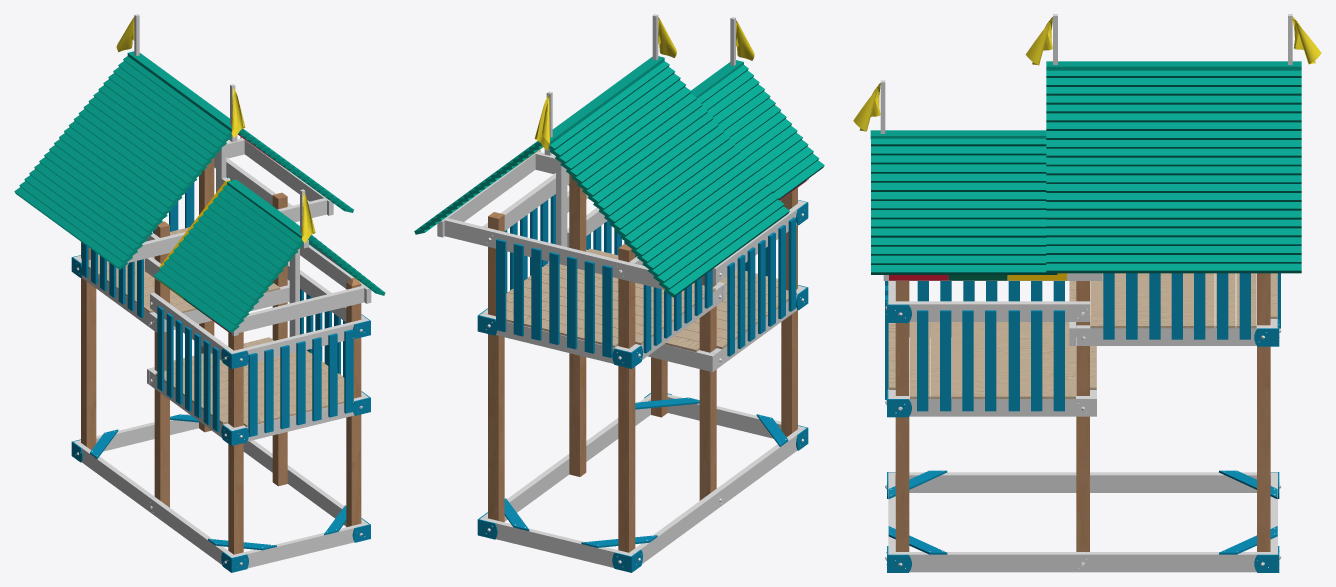
Rendered from P-DST.9e12bee6.glb.
3 views of the same model, side by side, from view 1: azimuth 30°, elevation 25°; view 2: azimuth 150°, elevation 25°; view 3: azimuth 270°, elevation 25° (orthographic). The views are drawn at different scales.
Parts seen in each view (by area): view 1: roof_poly_back,#004983,#01664b,#ffcb05,#93293b, Cube603, Cube603_1.001, roof_poly_front,#004983,#01664b,#ffcb05,#93293b, Cube603_1, Deluxe_corners001,_colorize_, Cube110, Deluxe_Joint001,_colorize_, Cube120, FenceDeluxe037,_colorize_, FenceDeluxe038,_colorize_, FenceDeluxe040,_colorize_ (+12 smaller); view 2: roof_poly_back,#004983,#01664b,#ffcb05,#93293b, Cube603, Cube603_1.001, roof_poly_front,#004983,#01664b,#ffcb05,#93293b, Cube603_1, Deluxe_corners001,_colorize_, Deluxe_Joint001,_colorize_, Cube110, FenceDeluxe054,_colorize_, FenceDeluxe055,_colorize_, FenceDeluxe056,_colorize_, FenceDeluxe057,_colorize_ (+13 smaller); view 3: roof_poly_back,#004983,#01664b,#ffcb05,#93293b, Cube603, roof_poly_front,#004983,#01664b,#ffcb05,#93293b, Cube603_1, Cube603_1.001, Cube110, Deluxe_corners001,_colorize_, Deluxe_Joint001,_colorize_, Cube120, FenceDeluxe044,_colorize_, FenceDeluxe042,_colorize_, FenceDeluxe043,_colorize_ (+15 smaller).
Boxes of the visible parts, x1,y1,x2,y2 form: roof_poly_back,#004983,#01664b,#ffcb05,#93293b: [14, 56, 353, 269]; Cube603: [73, 14, 371, 568]; Cube603_1.001: [81, 158, 361, 554]; roof_poly_front,#004983,#01664b,#ffcb05,#93293b: [154, 184, 385, 332]; Cube603_1: [88, 227, 353, 426]; Deluxe_corners001,_colorize_: [71, 255, 370, 572]; Cube110: [127, 51, 231, 131]; Deluxe_Joint001,_colorize_: [90, 414, 346, 550]; Cube120: [227, 179, 312, 239]; FenceDeluxe037,_colorize_: [264, 349, 273, 432]; FenceDeluxe038,_colorize_: [280, 345, 289, 429]; FenceDeluxe040,_colorize_: [328, 333, 337, 417]; roof_poly_back,#004983,#01664b,#ffcb05,#93293b: [414, 61, 789, 297]; Cube603: [437, 14, 808, 567]; Cube603_1.001: [488, 174, 797, 552]; roof_poly_front,#004983,#01664b,#ffcb05,#93293b: [568, 65, 824, 199]; Cube603_1: [506, 248, 796, 351]; Deluxe_corners001,_colorize_: [477, 200, 808, 572]; Deluxe_Joint001,_colorize_: [504, 397, 788, 547]; Cube110: [539, 56, 664, 144]; FenceDeluxe054,_colorize_: [513, 243, 523, 336]; FenceDeluxe055,_colorize_: [531, 247, 541, 340]; FenceDeluxe056,_colorize_: [549, 252, 559, 344]; FenceDeluxe057,_colorize_: [567, 256, 577, 349]; roof_poly_back,#004983,#01664b,#ffcb05,#93293b: [1046, 70, 1301, 273]; Cube603: [880, 14, 1292, 572]; roof_poly_front,#004983,#01664b,#ffcb05,#93293b: [871, 138, 1057, 274]; Cube603_1: [889, 273, 1277, 398]; Cube603_1.001: [895, 273, 1270, 551]; Cube110: [1046, 61, 1301, 70]; Deluxe_corners001,_colorize_: [887, 295, 1279, 572]; Deluxe_Joint001,_colorize_: [888, 470, 1277, 554]; Cube120: [870, 130, 1046, 139]; FenceDeluxe044,_colorize_: [962, 310, 973, 411]; FenceDeluxe042,_colorize_: [917, 310, 928, 411]; FenceDeluxe043,_colorize_: [940, 310, 951, 411].
Size of the model in its own units: 2.62 by 4.46 by 3.67.
Materials: 50 (3 with a texture image).
